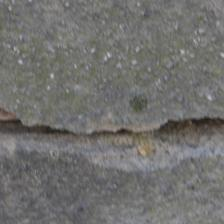Crack: (3, 51, 221, 117)
